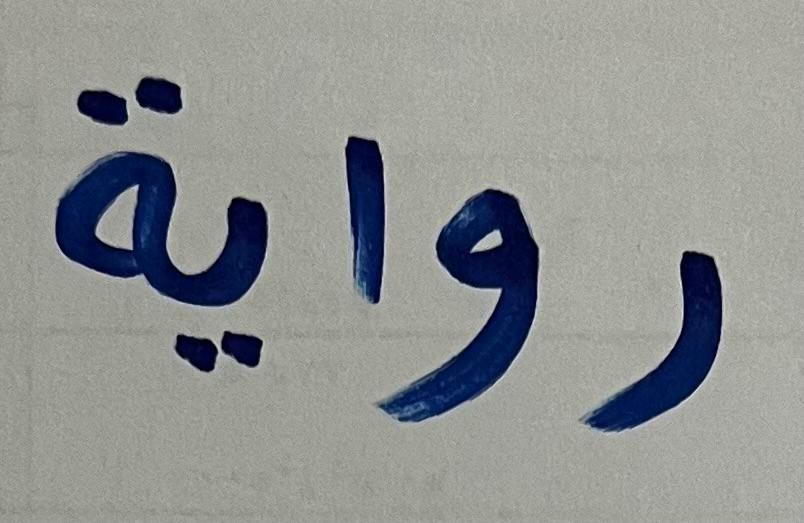alef: (314, 81, 393, 331)
reh: (567, 187, 745, 471)
teh_marbota: (26, 50, 178, 322)
waw: (397, 138, 560, 452)
yeh: (181, 148, 309, 433)
